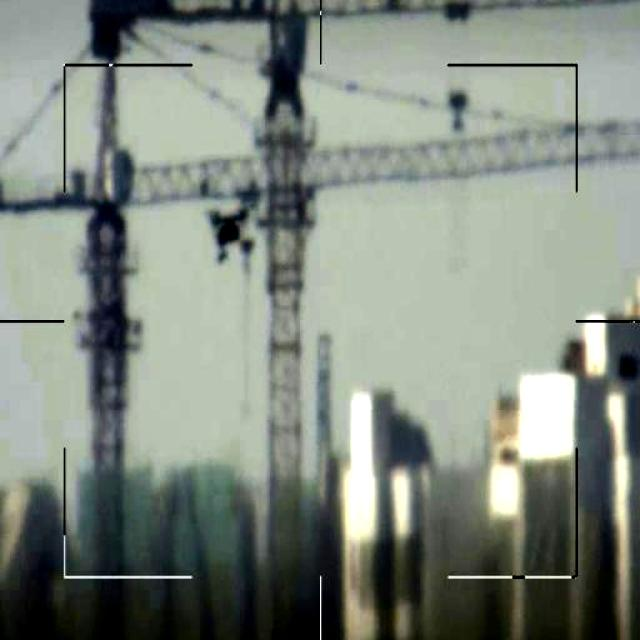bird: (206, 205, 262, 276)
